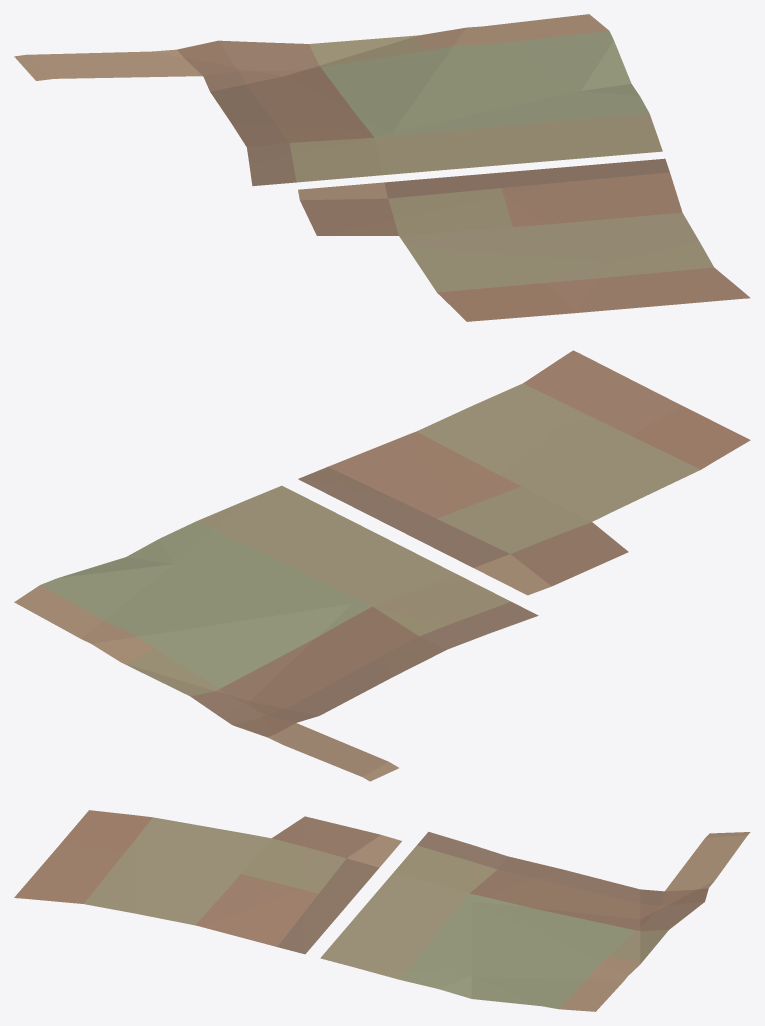
File: farm_13_7_soil.glb
3 views of the same model, one above another, from view 1: azimuth 30°, elevation 25°; view 2: azimuth 150°, elevation 25°; view 3: azimuth 270°, elevation 25° (orthographic). The views are drawn at different scales.
Parts seen in each view (by area): view 1: geometry_0; view 2: geometry_0; view 3: geometry_0.
Part boxes in pixels (x1,y1,x2,y2): geometry_0: (14,14,750,321); geometry_0: (14,350,750,781); geometry_0: (14,810,750,1011).
Bounding box in the file's own units: 204 × 23.84 × 350.
